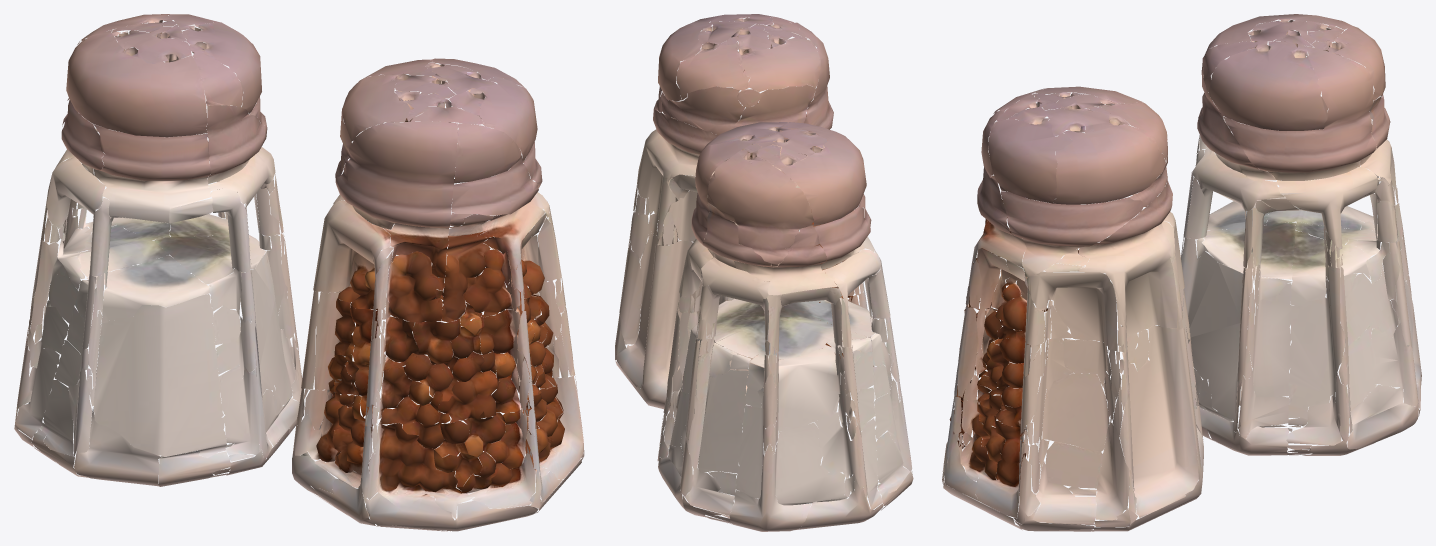
The model's file is botes.glb.
3 renders of one model, left to right at view 1: azimuth 30°, elevation 25°; view 2: azimuth 150°, elevation 25°; view 3: azimuth 270°, elevation 25°, orthographic. The views are drawn at different scales.
Visible parts, largest first — view 1: tripo_node_c6c0ac03-e3a8-4196-bdb7-a3ee9d21e570; view 2: tripo_node_c6c0ac03-e3a8-4196-bdb7-a3ee9d21e570; view 3: tripo_node_c6c0ac03-e3a8-4196-bdb7-a3ee9d21e570.
Part boxes in pixels (box(x1,y1,x2,y2)): tripo_node_c6c0ac03-e3a8-4196-bdb7-a3ee9d21e570: box(14, 14, 584, 531); tripo_node_c6c0ac03-e3a8-4196-bdb7-a3ee9d21e570: box(615, 14, 913, 531); tripo_node_c6c0ac03-e3a8-4196-bdb7-a3ee9d21e570: box(942, 14, 1421, 531).
Size of the model in its own units: 0.9052 by 0.8458 by 0.98.
Materials: 1 (1 with a texture image).
